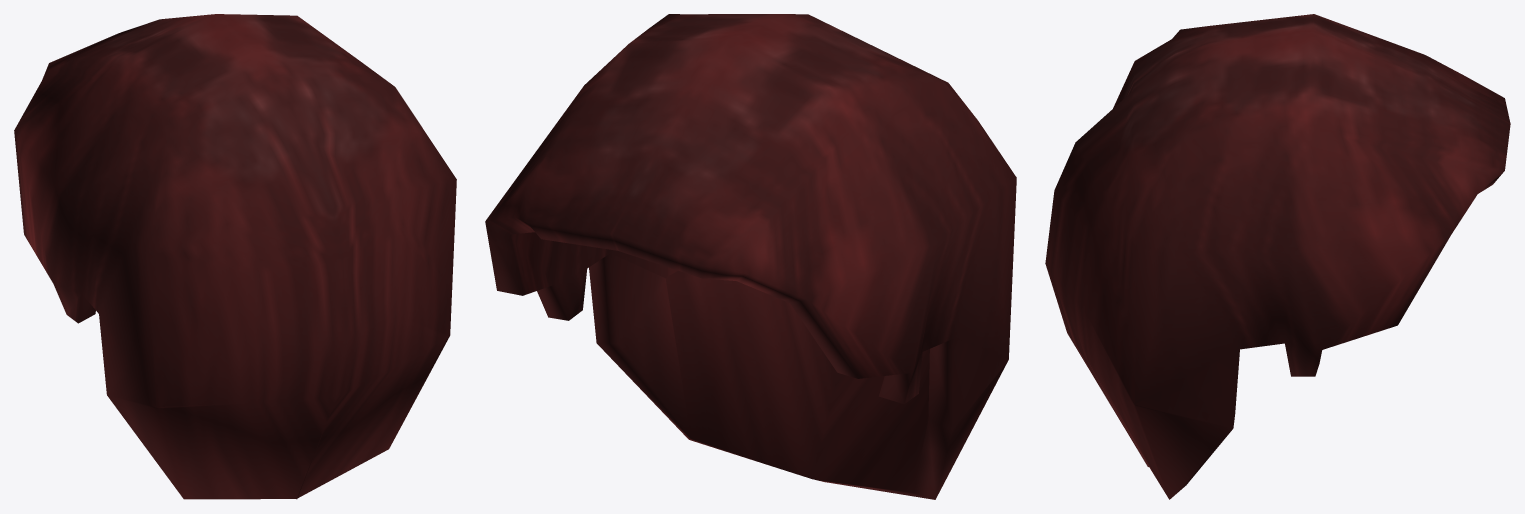
The model's file is hair2.glb.
3 views of the same model, side by side, from view 1: azimuth 30°, elevation 25°; view 2: azimuth 150°, elevation 25°; view 3: azimuth 270°, elevation 25° (orthographic). The views are drawn at different scales.
Parts seen in each view (by area): view 1: hair2; view 2: hair2; view 3: hair2.
Boxes of the visible parts, x1,y1,x2,y2 form: hair2: (14,14,456,499); hair2: (485,14,1016,499); hair2: (1045,14,1510,499).
Bounding box in the file's own units: 0.1655 × 0.2067 × 0.2002.
1 material, 1 textured.
